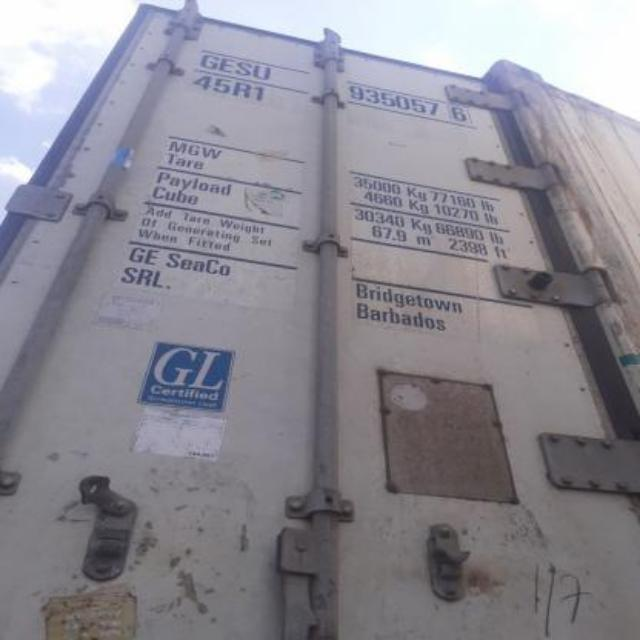0: (393, 88, 411, 114)
3: (364, 81, 380, 107)
5: (382, 85, 394, 111), (412, 94, 424, 116)
6: (448, 100, 476, 126)
7: (424, 92, 440, 118)
9: (348, 79, 362, 103)
E: (219, 51, 237, 75)
G: (199, 47, 217, 71)
S: (237, 51, 253, 77)
U: (255, 60, 271, 84)
